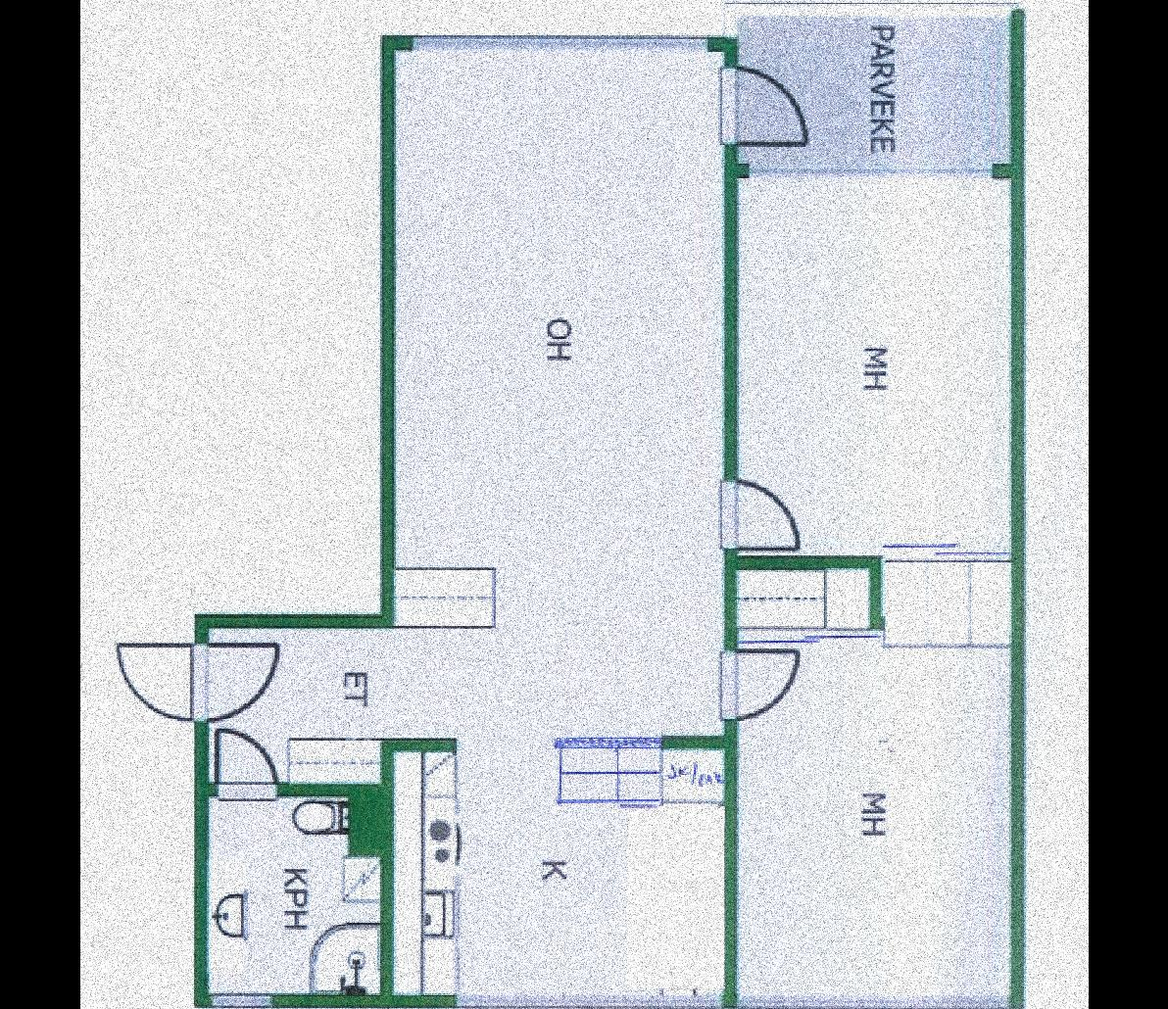door: (112, 640, 284, 731), (719, 64, 809, 147), (715, 477, 811, 551), (709, 649, 803, 723), (207, 720, 281, 811)
window: (413, 33, 704, 49), (452, 992, 724, 1009), (735, 991, 1010, 1007), (207, 997, 269, 1008)
zone: (174, 46, 721, 995), (739, 177, 1015, 558), (747, 635, 1016, 995), (738, 16, 1014, 169), (206, 790, 385, 991)
